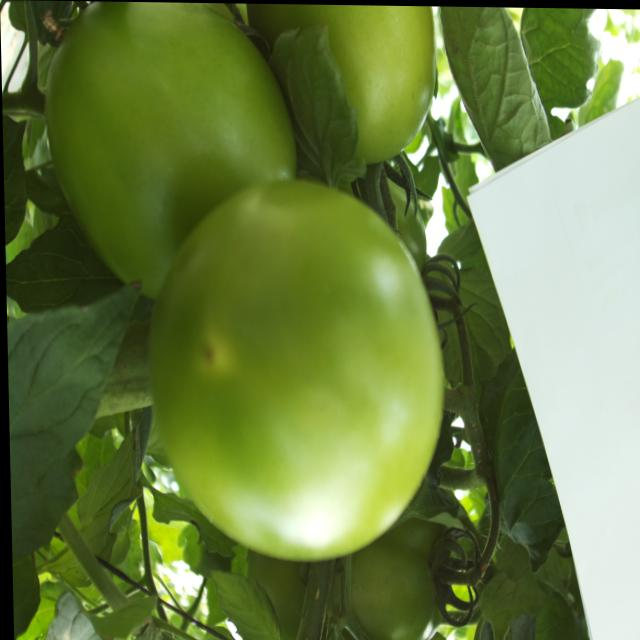yesil: (48, 1, 472, 578)
